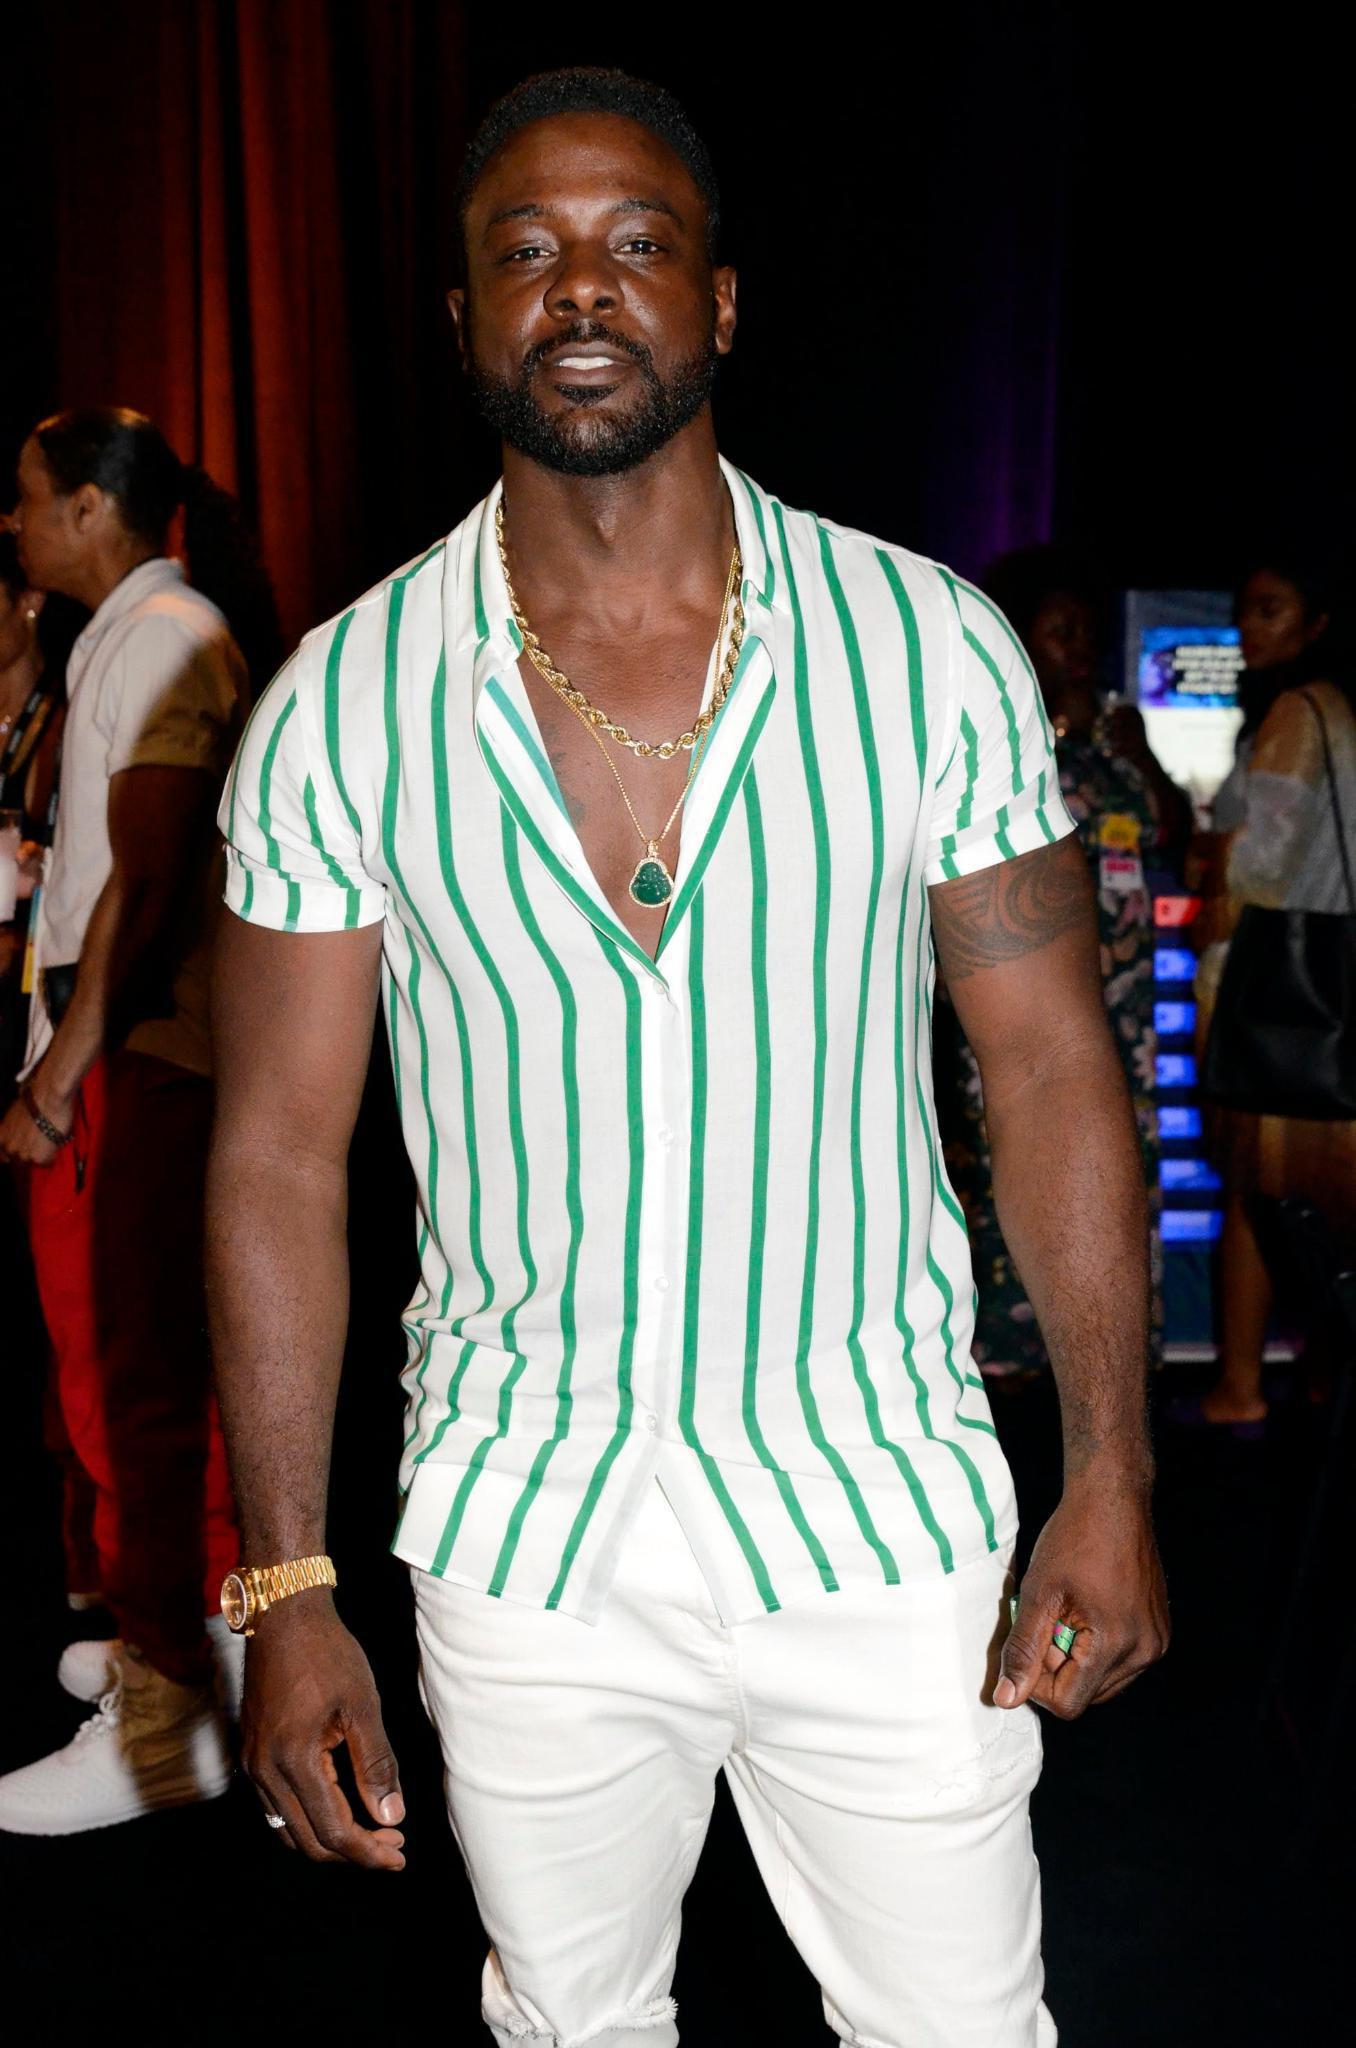Sober: (487, 136, 711, 425)
